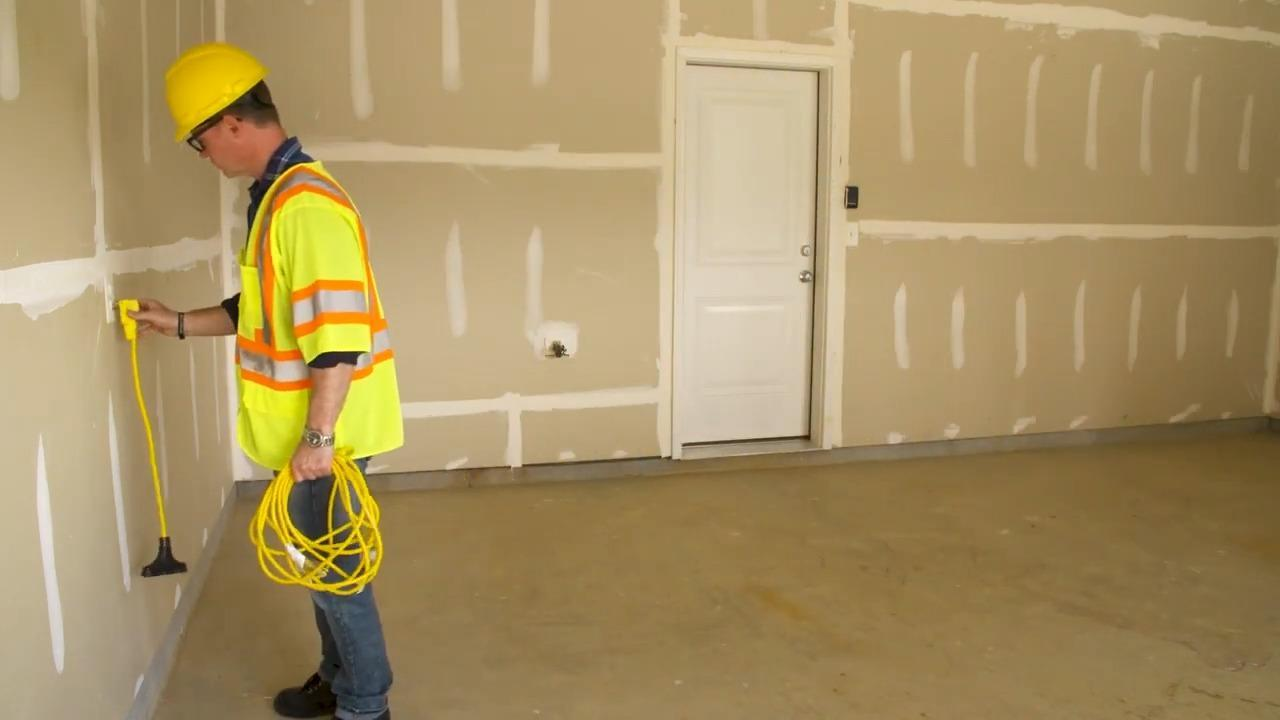Helmet: (162, 45, 272, 142)
Person: (118, 41, 396, 720)
Safety Boot: (273, 676, 382, 720)
Safety Vest: (228, 191, 387, 464)
bare-arms: (122, 305, 189, 344), (288, 435, 344, 480)
